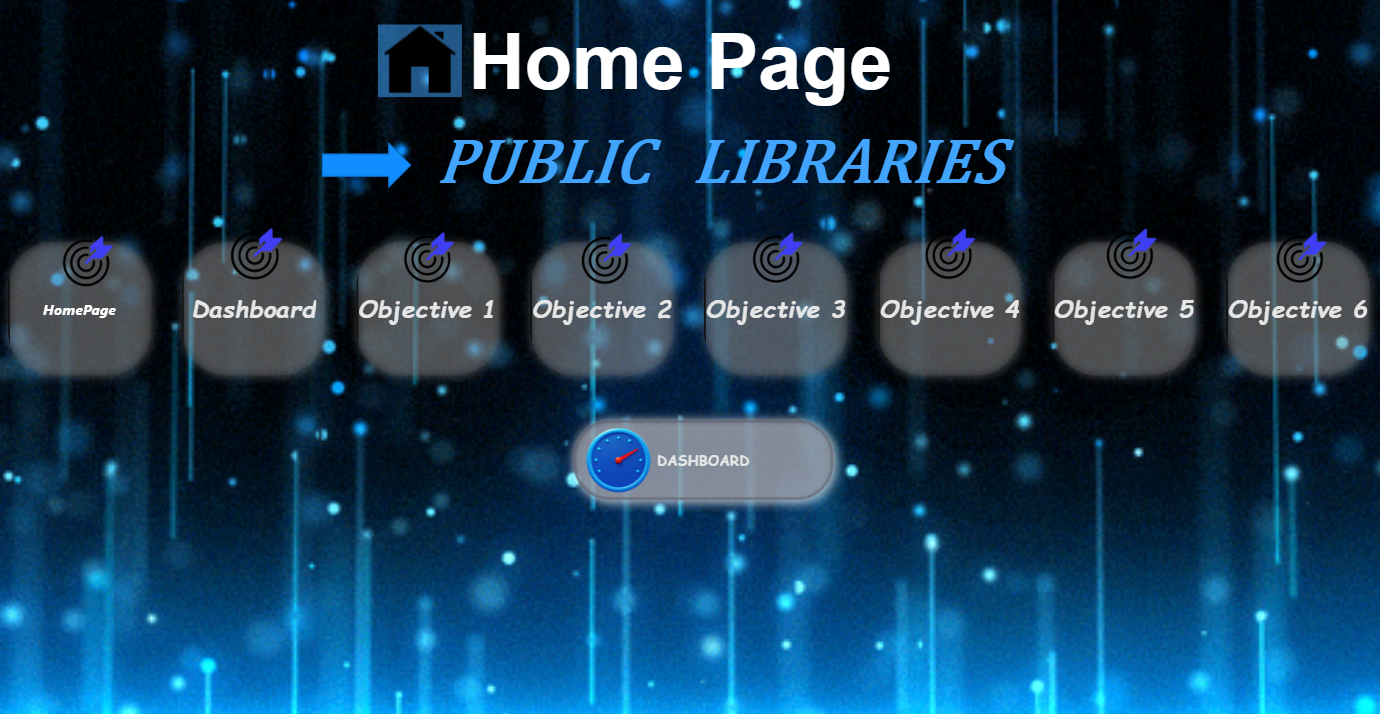

The dashboard page shown, as its layout file describes it:
{"tool":"powerbi","page":{"name":"HomePage","canvas":[1280,720],"ordinal":0},"visuals":[{"type":"textbox","box":[430,15,459,102],"z":0},{"type":"bookmarkNavigator","box":[0,0,600,50],"z":1000},{"type":"actionButton","box":[520.4,379.6,264.3,98],"z":2000},{"type":"pageNavigator","box":[0,218,1280,142],"z":3000},{"type":"textbox","box":[321,117,692,150],"z":4000},{"type":"shape","box":[300,134,83,43],"z":5000},{"type":"image","box":[352,25.5,77.6,67.3],"z":6000},{"type":"image","box":[538.8,390.8,70.4,75.5],"z":7000},{"type":"image","box":[59.2,220.4,48,46.9],"z":8000},{"type":"image","box":[1024.5,214.3,48,46.9],"z":9000},{"type":"image","box":[857.1,214.3,48,46.9],"z":10000},{"type":"image","box":[696.9,217.3,48,46.9],"z":11000},{"type":"image","box":[538.8,218.4,48,46.9],"z":12000},{"type":"image","box":[374.5,217.3,48,46.9],"z":13000},{"type":"image","box":[215.3,210.2,48,54.1],"z":14000},{"type":"image","box":[1182.7,217.3,48,46.9],"z":15000}]}

Visuals, with their boxes on the page's 1280x720 design canvas (x1, y1, x2, y2). These are canvas units, not pixel positions in the 1380x714 screenshot, which may show the page scaled, cropped or inside an application window:
textbox: [430,15,889,117]
bookmarkNavigator: [0,0,600,50]
actionButton: [520,380,785,478]
pageNavigator: [0,218,1280,360]
textbox: [321,117,1013,267]
shape: [300,134,383,177]
image: [352,26,430,93]
image: [539,391,609,466]
image: [59,220,107,267]
image: [1024,214,1072,261]
image: [857,214,905,261]
image: [697,217,745,264]
image: [539,218,587,265]
image: [374,217,422,264]
image: [215,210,263,264]
image: [1183,217,1231,264]
